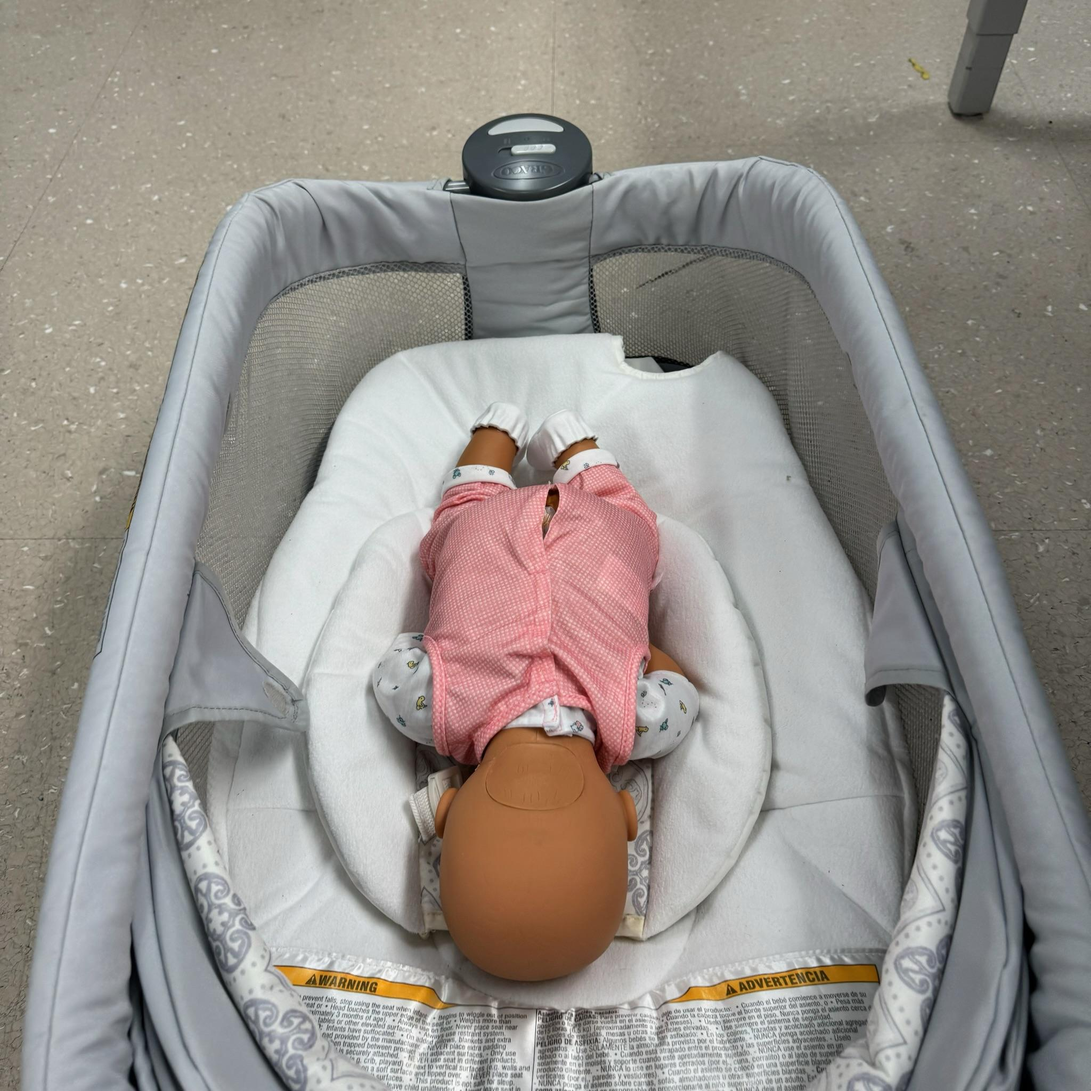baby: (373, 384, 730, 1004)
